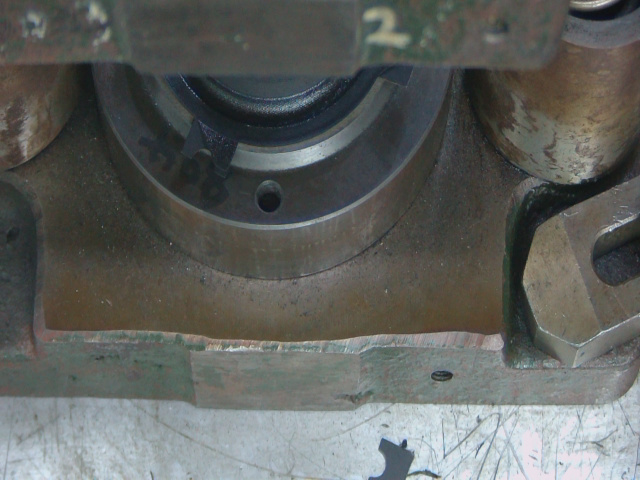OK: (179, 119, 253, 187)
